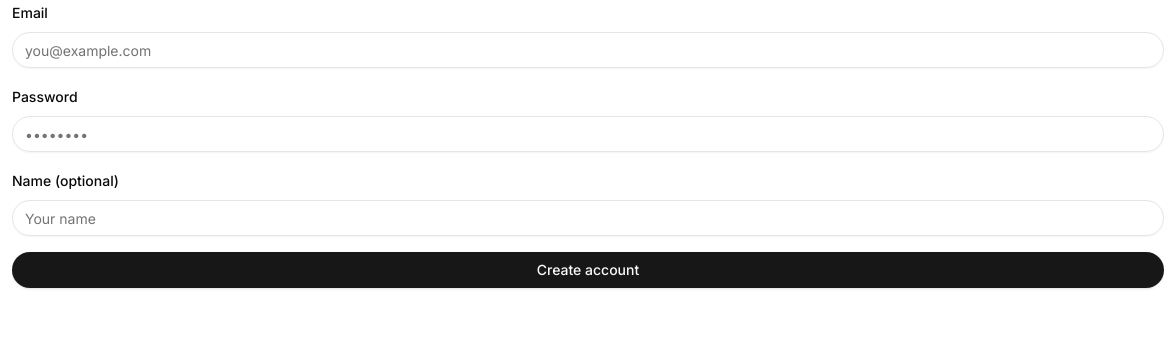
Scenario: SignupForm › shows validation error for invalid email
// Submit empty form to trigger validation
Click the button "Create account".
click(588, 270)  # box x1=12 y1=252 x2=1164 y2=288
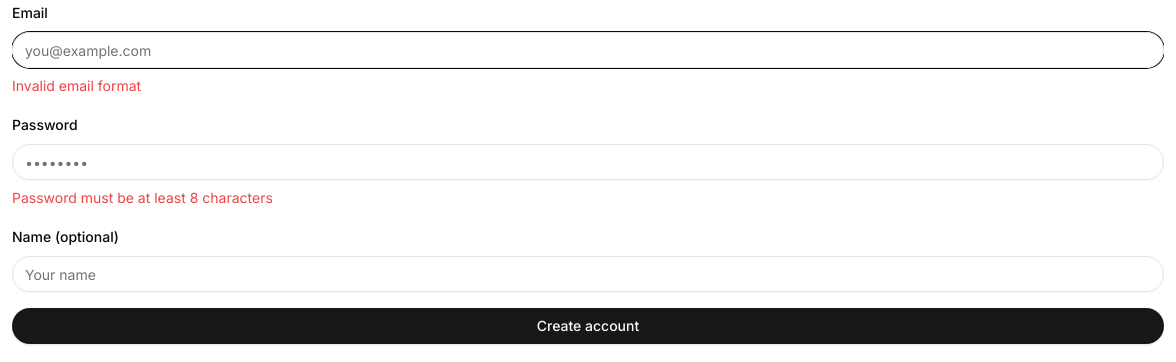
Expected: the text "Invalid email format" is shown, x1=12 y1=77 x2=141 y2=94
